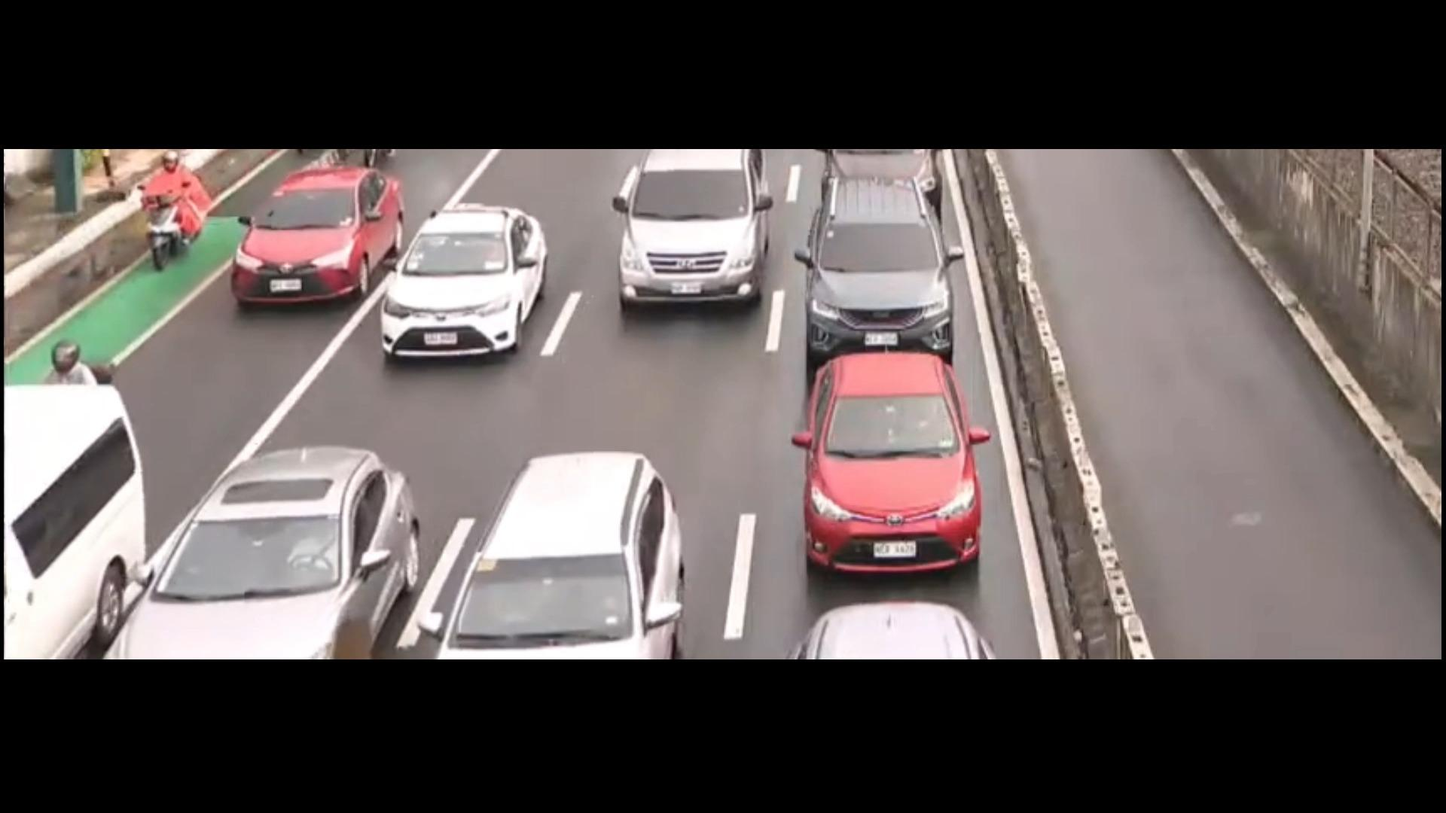Motorcycle: (141, 149, 219, 297), (48, 333, 102, 384)
SUV: (420, 443, 712, 666), (798, 157, 972, 372), (605, 147, 778, 333)
Sedan: (100, 435, 428, 669), (760, 350, 1010, 584), (359, 196, 565, 374), (219, 169, 412, 326)
Van: (0, 375, 153, 667)
